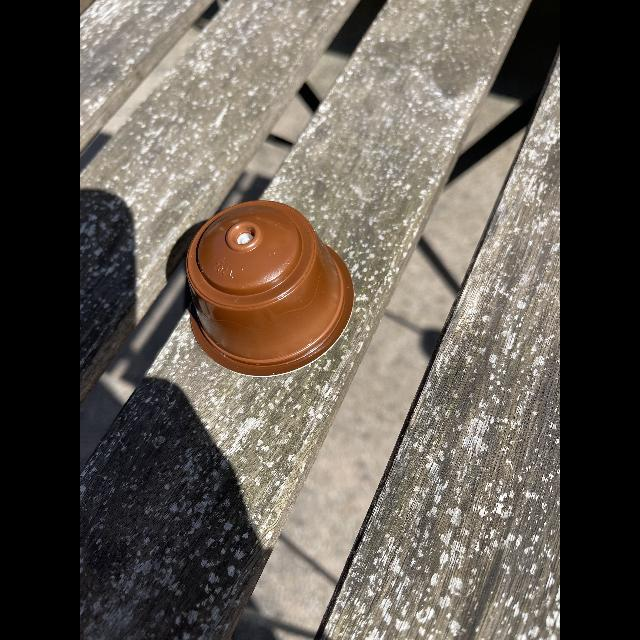intact_capsule: (174, 186, 374, 388)
